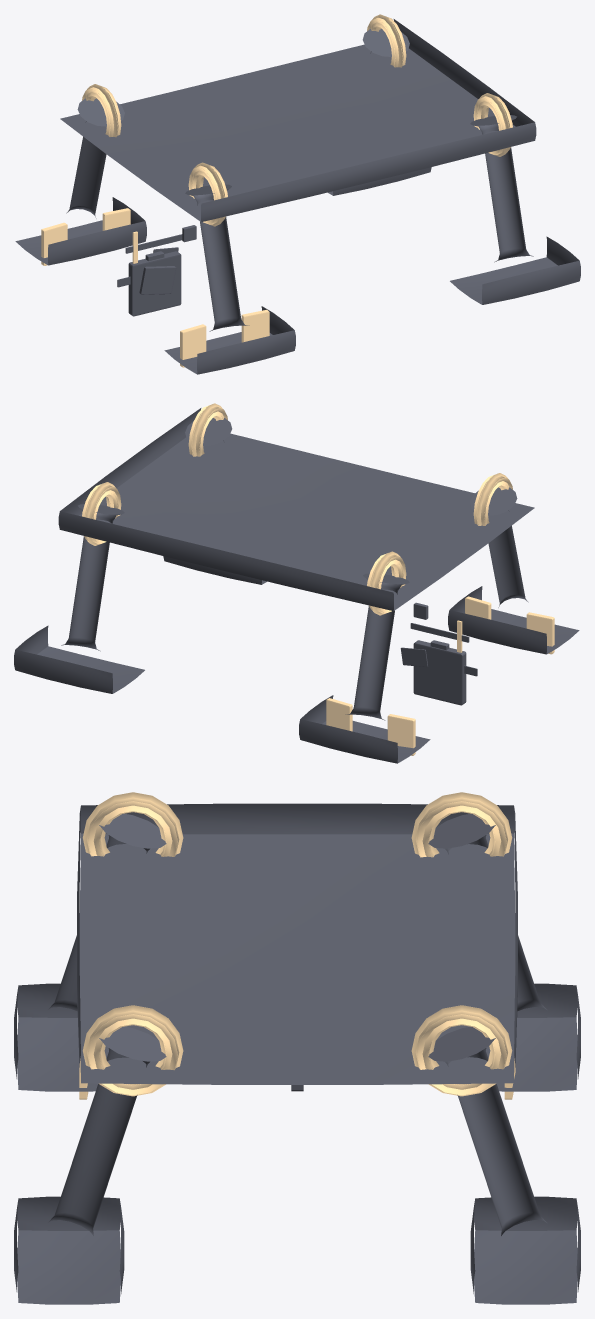
Rendered from skid_quad.glb.
3 views of the same model, one above another, from view 1: azimuth 30°, elevation 25°; view 2: azimuth 150°, elevation 25°; view 3: azimuth 270°, elevation 25° (orthographic). The views are drawn at different scales.
Visible parts, largest first — view 1: skid_quad_Material_Hull_Merged, skid_quad_Material_Mechanical_Merged, skid_quad_Material_Accent_Merged, DET_mount_flange, DET_ore_dock_scuff, DET_skid_pad_front_l, DET_skid_pad_front_r, DET_skid_pad_rear_l, DET_skid_pad_rear_r; view 2: skid_quad_Material_Hull_Merged, skid_quad_Material_Mechanical_Merged, skid_quad_Material_Accent_Merged, DET_mount_flange, DET_skid_pad_rear_l, DET_skid_pad_rear_r, DET_skid_pad_front_l, DET_skid_pad_front_r, DET_micro_scratch_plate; view 3: skid_quad_Material_Hull_Merged, skid_quad_Material_Mechanical_Merged, skid_quad_Material_Accent_Merged.
Boxes of the visible parts, box(x1,y1,x2,y2) form: skid_quad_Material_Hull_Merged: box(15, 19, 580, 374); skid_quad_Material_Mechanical_Merged: box(66, 29, 533, 331); skid_quad_Material_Accent_Merged: box(82, 14, 512, 226); DET_mount_flange: box(128, 251, 181, 316); DET_ore_dock_scuff: box(139, 266, 176, 294); DET_skid_pad_front_l: box(180, 324, 206, 367); DET_skid_pad_front_r: box(241, 309, 269, 342); DET_skid_pad_rear_l: box(41, 222, 67, 265); DET_skid_pad_rear_r: box(102, 208, 130, 230); skid_quad_Material_Hull_Merged: box(14, 408, 579, 763); skid_quad_Material_Mechanical_Merged: box(61, 418, 528, 720); skid_quad_Material_Accent_Merged: box(82, 403, 512, 615); DET_mount_flange: box(413, 640, 466, 705); DET_skid_pad_rear_l: box(387, 714, 415, 755); DET_skid_pad_rear_r: box(326, 698, 352, 731); DET_skid_pad_front_l: box(526, 612, 554, 654); DET_skid_pad_front_r: box(465, 596, 491, 619); DET_micro_scratch_plate: box(400, 647, 427, 666); skid_quad_Material_Hull_Merged: box(14, 803, 580, 1304); skid_quad_Material_Mechanical_Merged: box(48, 813, 546, 1235); skid_quad_Material_Accent_Merged: box(82, 792, 512, 1096).
Size of the model in its own units: 4.35 by 1.97 by 3.6.
